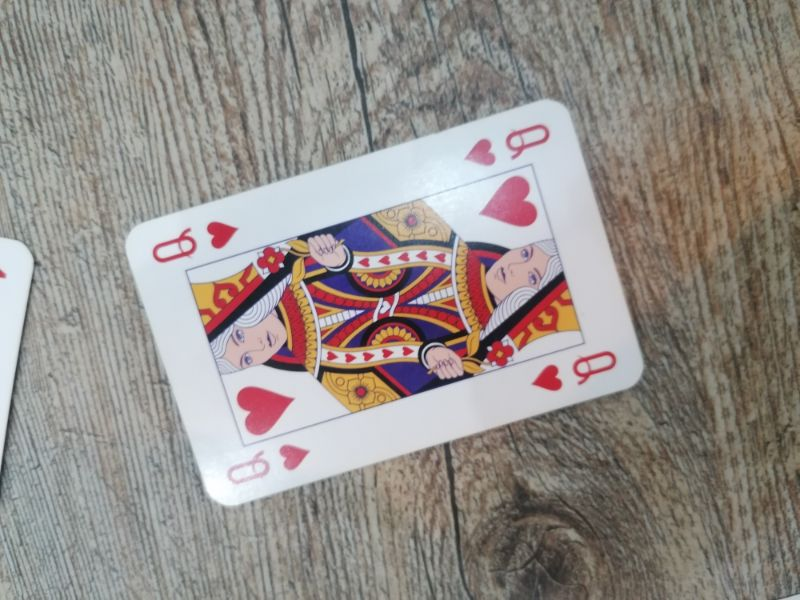Qh: (461, 116, 553, 170), (152, 211, 239, 265), (221, 440, 312, 489), (526, 348, 620, 395)
